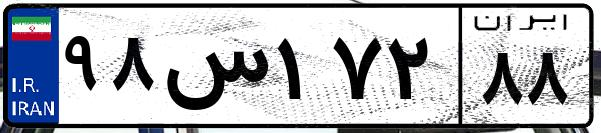1: (270, 28, 330, 110)
2: (385, 28, 445, 110)
7: (330, 28, 385, 110)
8: (475, 38, 525, 113), (525, 38, 570, 115), (110, 28, 158, 98)
9: (57, 26, 110, 100)
س: (158, 20, 270, 120)
